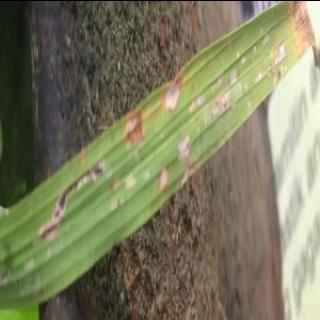Blast: (32, 160, 112, 255), (116, 106, 145, 152), (155, 72, 190, 110), (150, 161, 177, 196), (177, 128, 196, 156)
